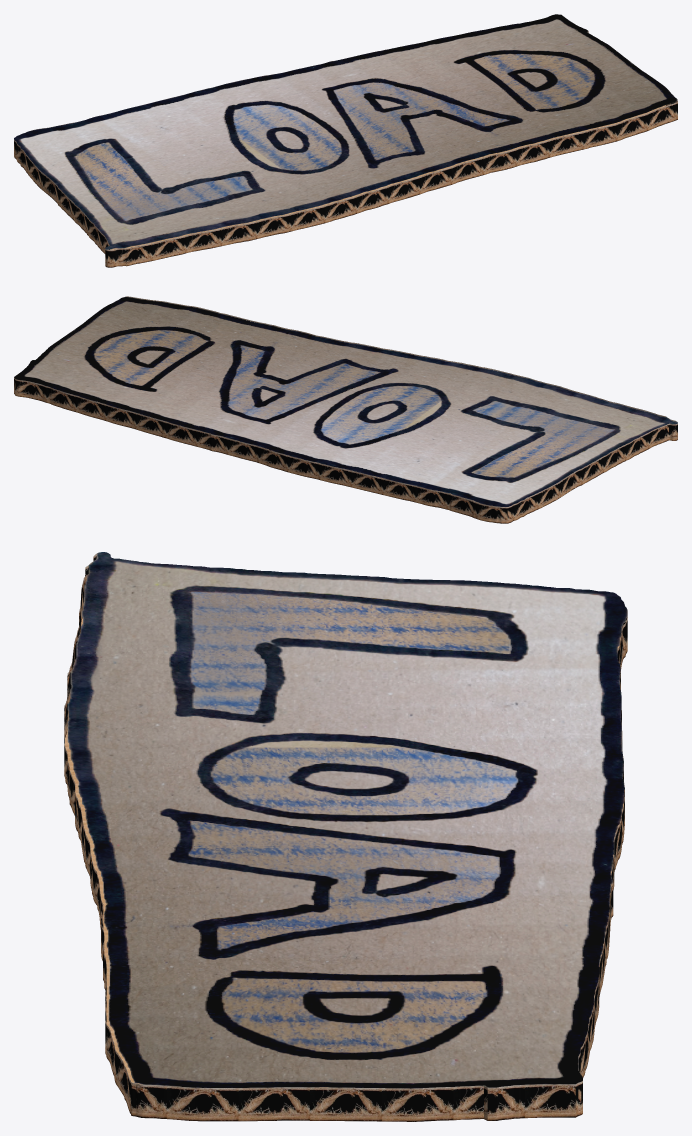
File: Load.fbx
3 views of the same model, one above another, from view 1: azimuth 30°, elevation 25°; view 2: azimuth 150°, elevation 25°; view 3: azimuth 270°, elevation 25° (orthographic). The views are drawn at different scales.
Parts seen in each view (by area): view 1: Load; view 2: Load; view 3: Load.
Boxes of the visible parts, bbox=[...] form: Load: bbox=[14, 14, 677, 267]; Load: bbox=[14, 296, 677, 523]; Load: bbox=[64, 552, 627, 1121].
Bounding box in the file's own units: 3.44 × 0.1 × 1.53.
